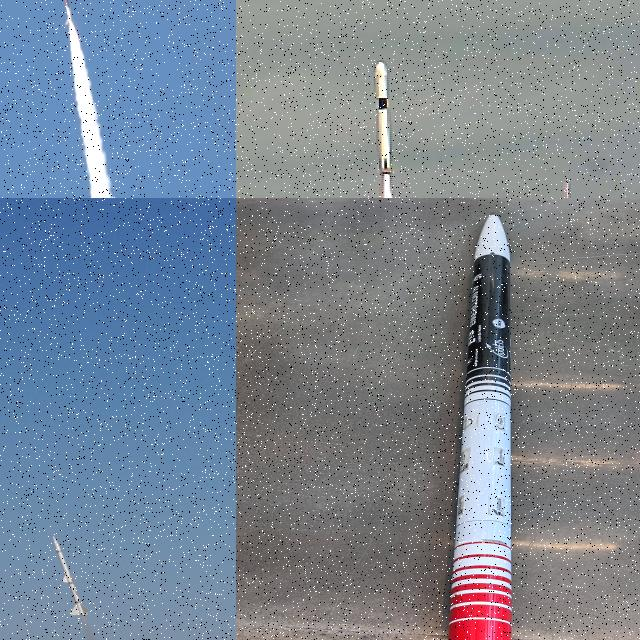Rocket: (448, 212, 513, 640), (51, 535, 90, 617), (372, 58, 394, 175), (63, 0, 72, 26)
